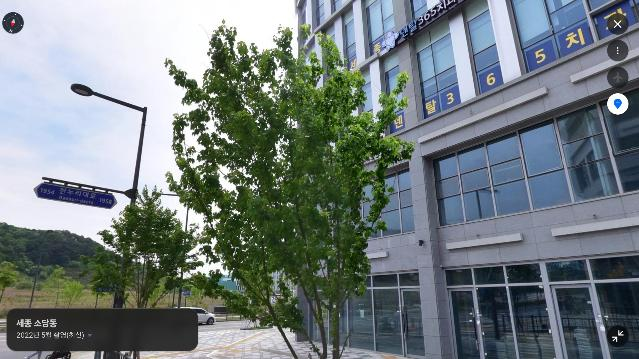other: (164, 19, 416, 359), (96, 184, 205, 359), (54, 266, 83, 309), (0, 260, 20, 308)
